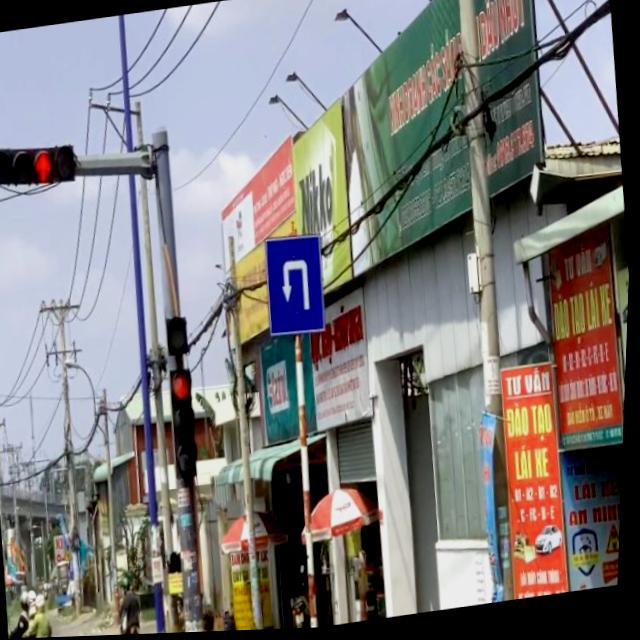Cho quay xe: (262, 230, 332, 342)
